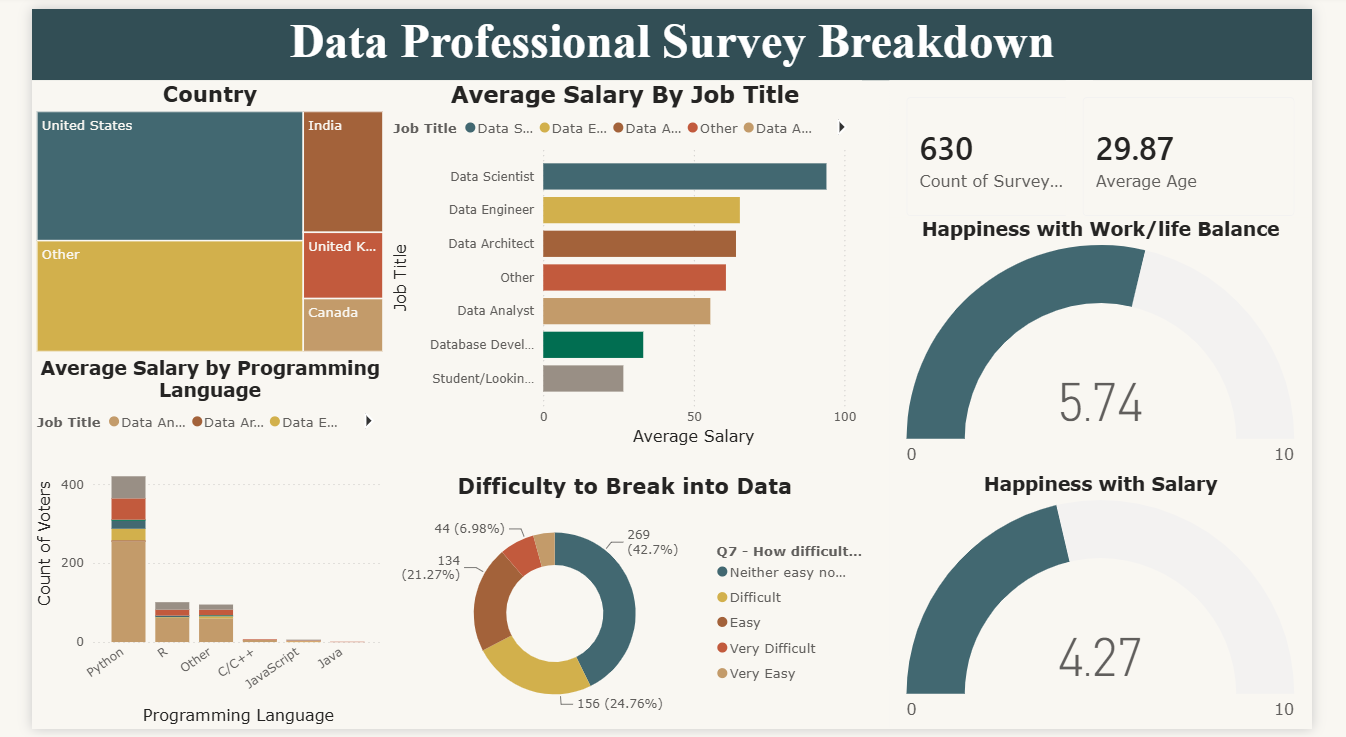

The dashboard page shown, as its layout file describes it:
{"tool":"powerbi","page":{"name":"Survey Dashboard","canvas":[1280,720],"ordinal":0},"visuals":[{"type":"textbox","box":[0,0,1280.3,71.4],"z":0},{"type":"cardVisual","fields":{"Data":["CountNonNull(Data Professional Survey.Unique ID)"]},"box":[858,70.6,202.9,153.3],"z":1000},{"type":"cardVisual","fields":{"Data":["Avg(Data Professional Survey.Q10 - Current Age)"]},"box":[1033.9,71.2,246.1,153.2],"z":2000},{"type":"barChart","title":"Average Salary By Job Title","fields":{"Category":["Data Professional Survey.Q1 - Which Title Best Fits your Current Role?.1"],"Y":["Avg(Data Professional Survey.Average Salary)"],"Series":["Data Professional Survey.Q1 - Which Title Best Fits your Current Role?.1"]},"box":[356.1,70.6,473.4,369.7],"z":3000},{"type":"columnChart","title":"Average Salary by  Programming Language","fields":{"Category":["Data Professional Survey.Q5 - Favorite Programming Language.1"],"Y":["CountNonNull(Data Professional Survey.Unique ID)"],"Series":["Data Professional Survey.Q1 - Which Title Best Fits your Current Role?.1"]},"box":[0,347.1,356.1,372.7],"z":4000},{"type":"treemap","title":"Country","fields":{"Group":["Data Professional Survey.Q11 - Which Country do you live in?.1"],"Values":["CountNonNull(Data Professional Survey.Q11 - Which Country do you live in?.1)"]},"box":[0,70.6,356.1,276.5],"z":5000},{"type":"gauge","title":"Happiness with Work/life Balance","fields":{"Y":["Avg(Data Professional Survey.Q6 - How Happy are you in your Current Position with the following? (Work/Life Balance))"],"MinValue":["Min(Data Professional Survey.Q6 - How Happy are you in your Current Position with the following? (Work/Life Balance))"],"MaxValue":["Max(Data Professional Survey.Q6 - How Happy are you in your Current Position with the following? (Work/Life Balance))1"]},"box":[858,208.9,422.3,255.5],"z":6000},{"type":"gauge","title":"Happiness with Salary","fields":{"Y":["Avg(Data Professional Survey.Q6 - How Happy are you in your Current Position with the following? (Salary))"],"MinValue":["Min(Data Professional Survey.Q6 - How Happy are you in your Current Position with the following? (Salary))"],"MaxValue":["Max(Data Professional Survey.Q6 - How Happy are you in your Current Position with the following? (Salary))"]},"box":[858,464.3,422.3,255.5],"z":7000},{"type":"donutChart","title":"Difficulty to Break into Data","fields":{"Category":["Data Professional Survey.Q7 - How difficult was it for you to break into Data?"],"Y":["CountNonNull(Data Professional Survey.Q7 - How difficult was it for you to break into Data?)"]},"box":[356.1,464.3,473.4,255.5],"z":8000}]}

Visuals, with their boxes in screenshot pixels (x1, y1, x2, y2), scaled from the page's 1280x720 canvas onto the 1346x737 screenshot:
textbox: [0,0,1345,73]
cardVisual - CountNonNull(Data Professional Survey.Unique ID): [902,72,1116,229]
cardVisual - Avg(Data Professional Survey.Q10 - Current Age): [1087,73,1345,230]
"Average Salary By Job Title" barChart: [374,72,872,451]
"Average Salary by  Programming Language" columnChart: [0,355,374,736]
"Country" treemap: [0,72,374,355]
"Happiness with Work/life Balance" gauge: [902,214,1345,475]
"Happiness with Salary" gauge: [902,475,1345,736]
"Difficulty to Break into Data" donutChart: [374,475,872,736]
